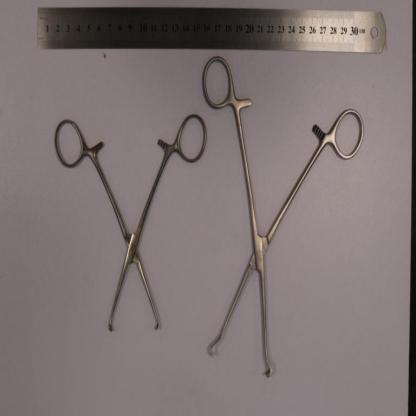8 Babcock Tissue Forceps: (200, 55, 366, 380)
Allis Tissue Forceps: (52, 111, 209, 333)
